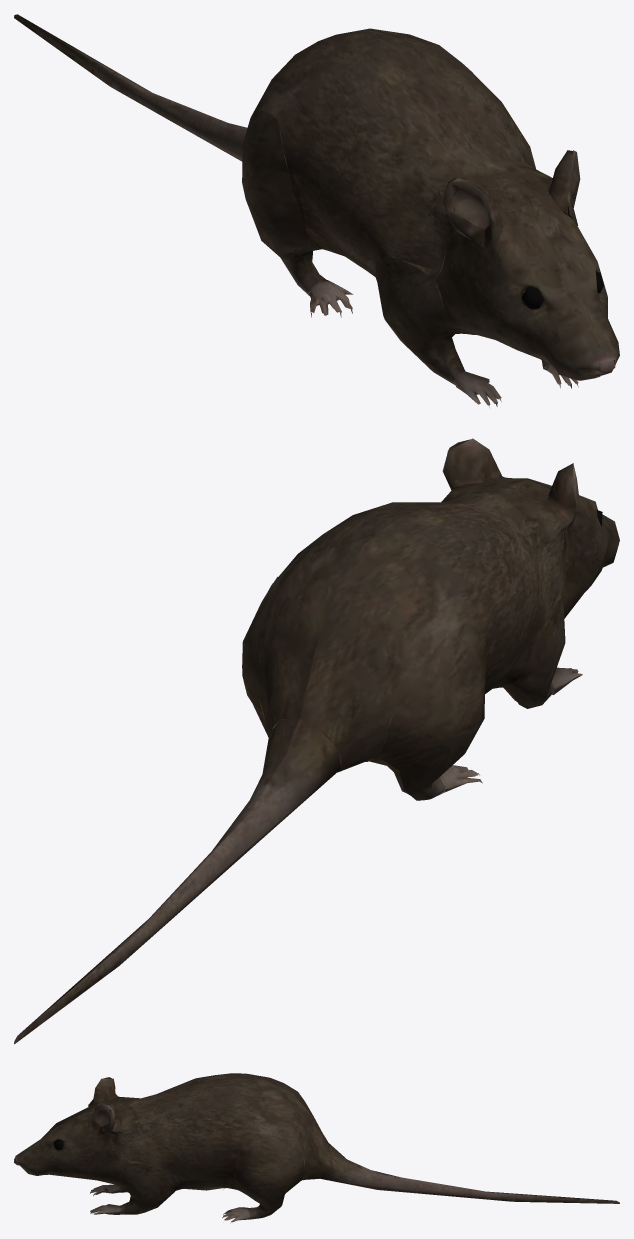
Rendered from street_rat.glb.
3 views of the same model, one above another, from view 1: azimuth 30°, elevation 25°; view 2: azimuth 150°, elevation 25°; view 3: azimuth 270°, elevation 25° (orthographic). The views are drawn at different scales.
Parts seen in each view (by area): view 1: street_rat; view 2: street_rat; view 3: street_rat.
Boxes of the visible parts, x1,y1,x2,y2 form: street_rat: (14, 14, 619, 407); street_rat: (14, 438, 619, 1044); street_rat: (14, 1073, 619, 1222).
Bounding box in the file's own units: 0.032 × 0.0338 × 0.1483.
1 material, 1 textured.
